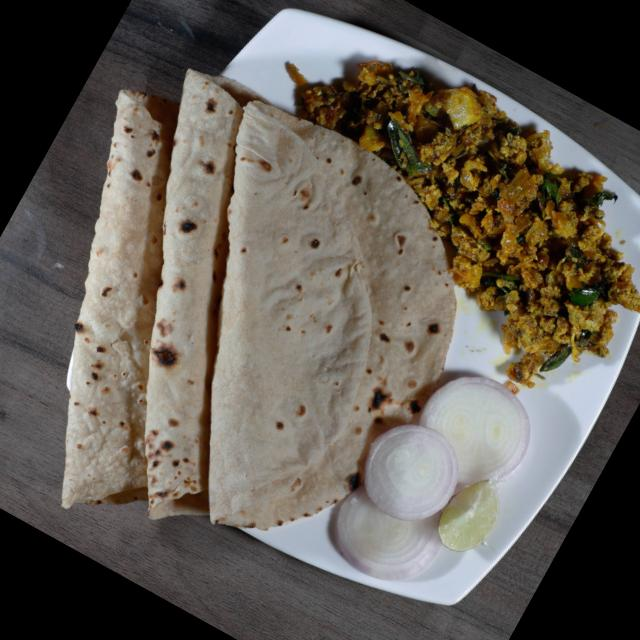roti: (56, 68, 457, 530)
